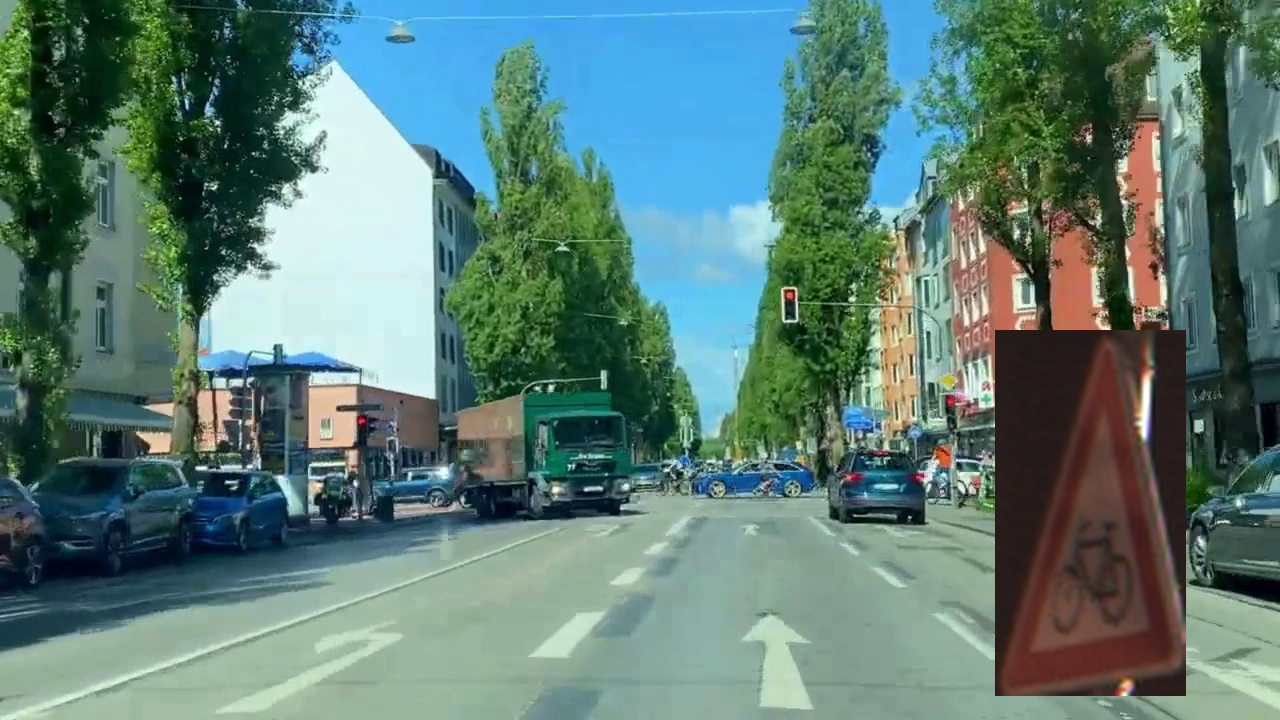Bicycles: (995, 330, 1186, 696)
